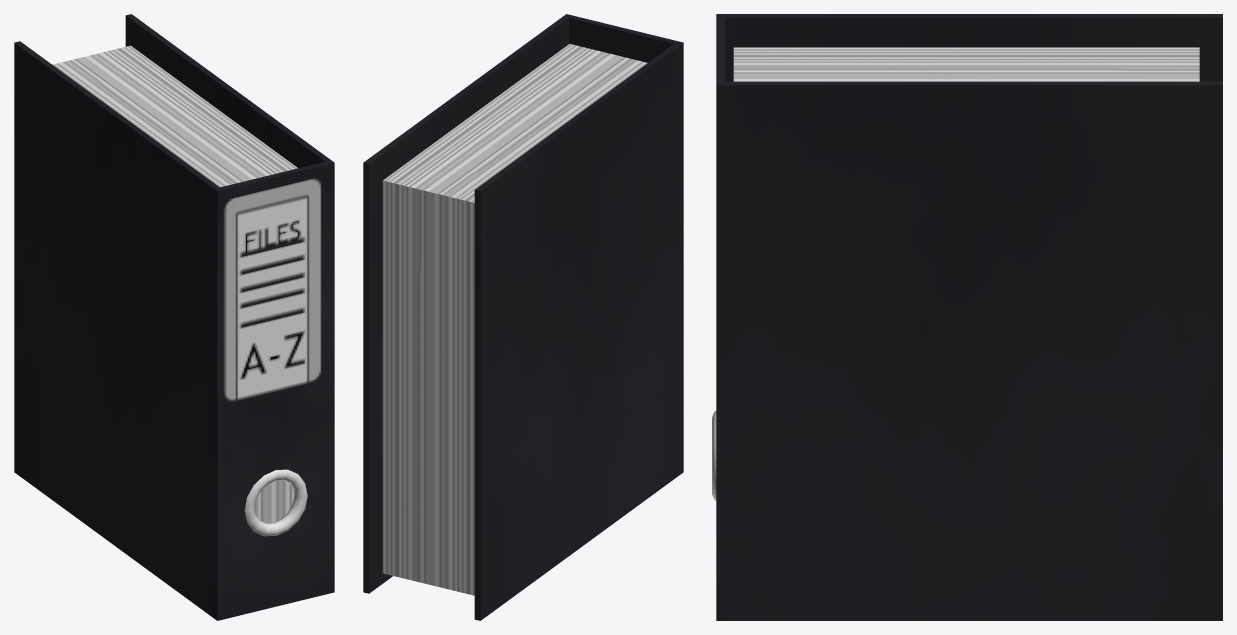
The model's file is 3D004_Office_BookGrey.FBX.
3 renders of one model, left to right at view 1: azimuth 30°, elevation 25°; view 2: azimuth 150°, elevation 25°; view 3: azimuth 270°, elevation 25°, orthographic. The views are drawn at different scales.
Parts seen in each view (by area): view 1: 3D004_Office_BookGrey; view 2: 3D004_Office_BookGrey; view 3: 3D004_Office_BookGrey.
Part boxes in pixels (x1,y1,x2,y2): 3D004_Office_BookGrey: [14, 14, 334, 620]; 3D004_Office_BookGrey: [363, 14, 683, 620]; 3D004_Office_BookGrey: [712, 14, 1222, 620].
Size of the model in its own units: 10 by 35 by 30.26.
